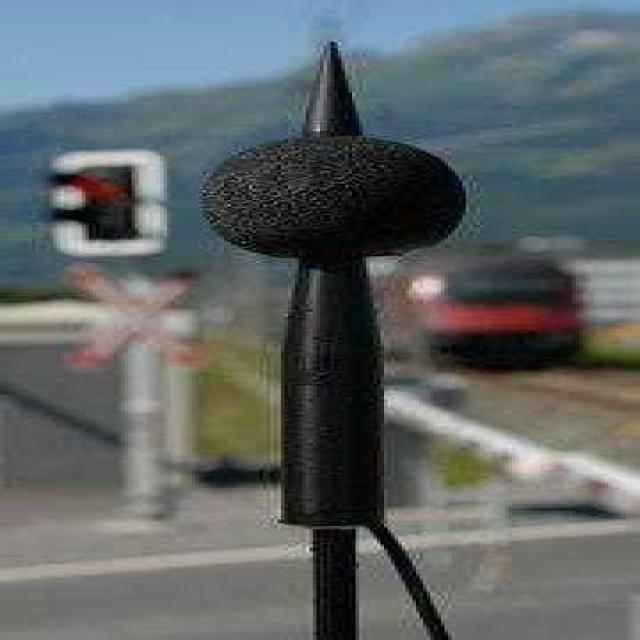microphone: (200, 44, 464, 522), (198, 134, 466, 260)
